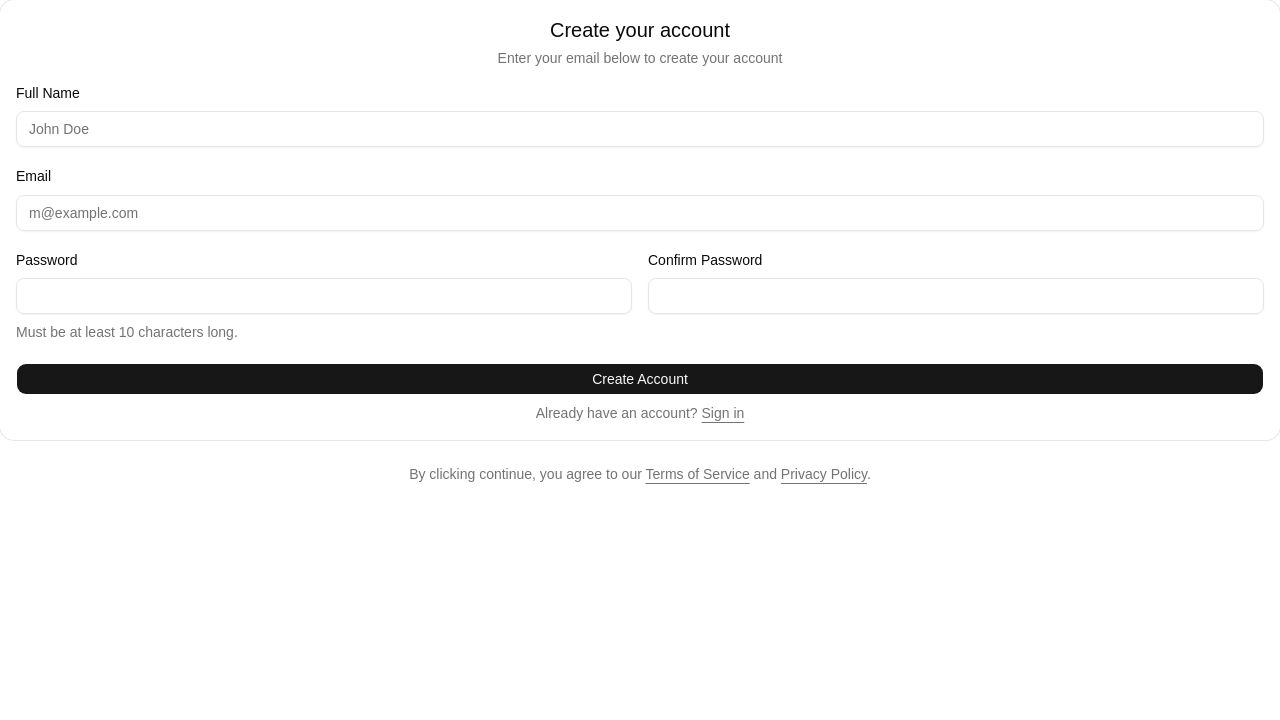
it: SignupForm › shows an error when password is shorter than 10 characters
The image size is (1280, 720).
Type "Jane Doe" into the field labelled "Full Name" at (640, 129), box [16,111,1264,147]
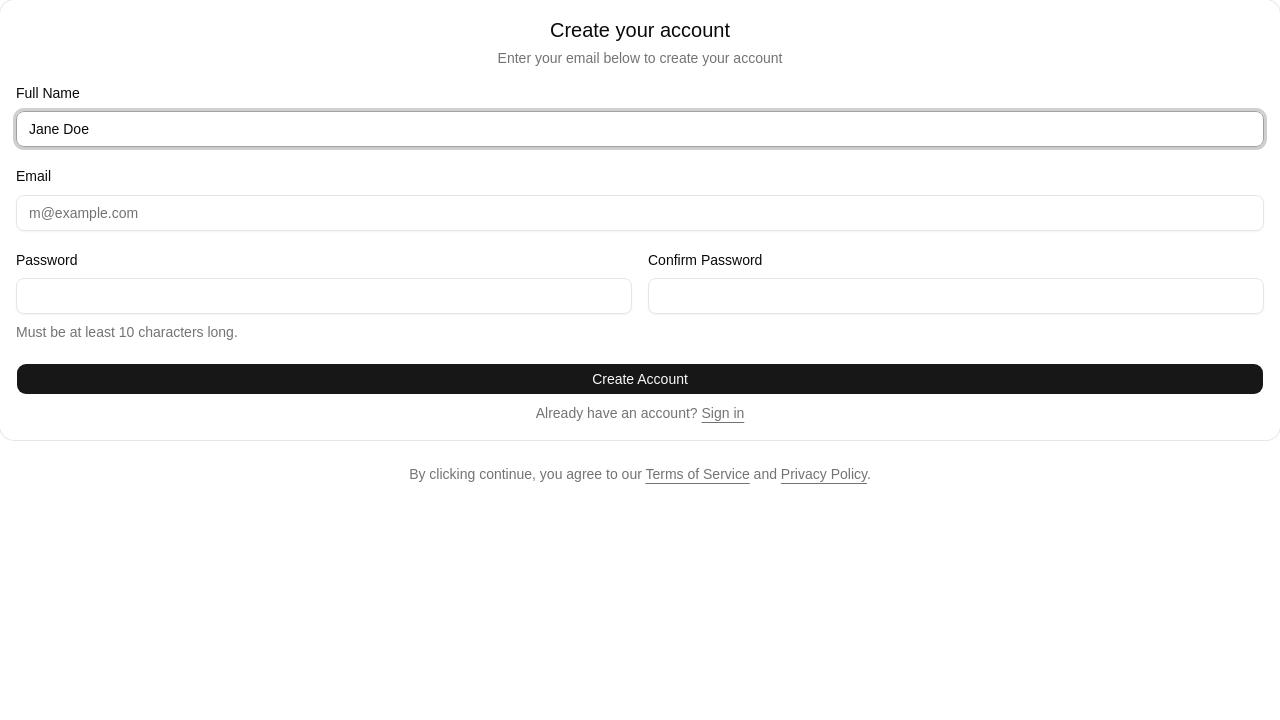
Type "jane@example.com" into the field labelled "Email" at (640, 212), box [16,194,1264,230]
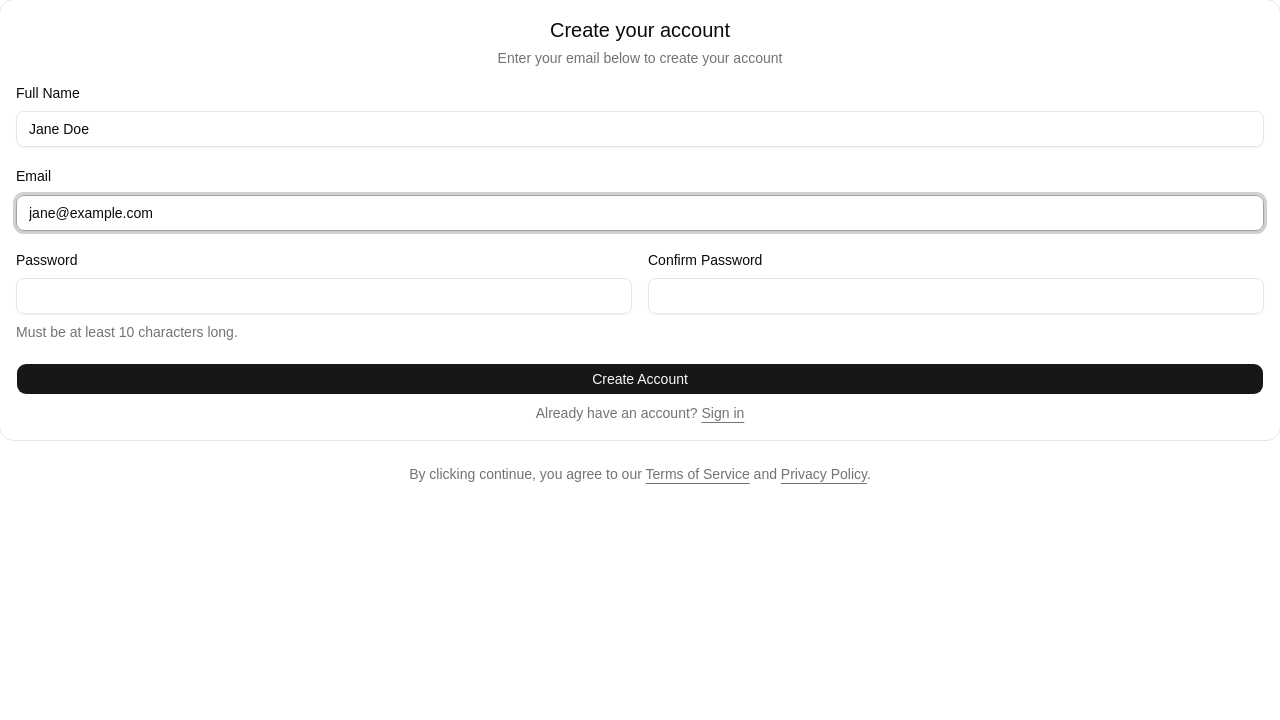
Type "short1" into the password field labelled "Password" at (324, 296), box [16,278,632,314]
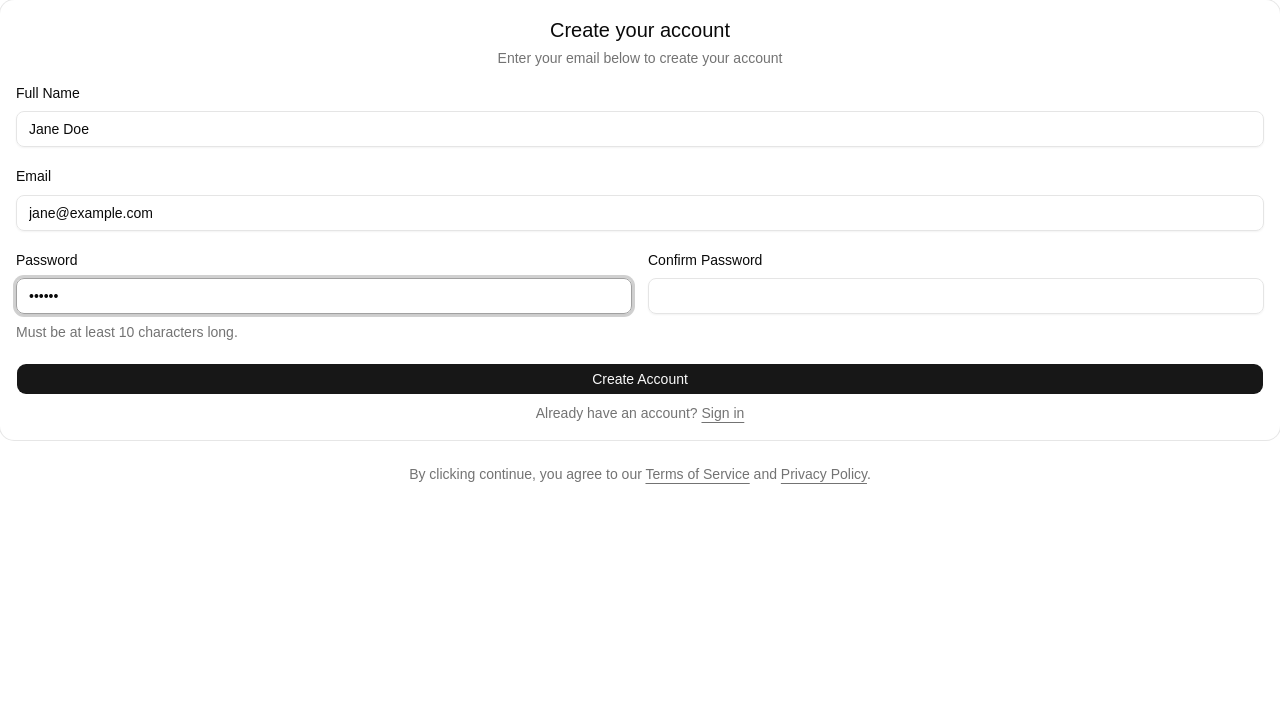
Type "short1" into the password field labelled "Confirm Password" at (956, 296), box [648,278,1264,314]
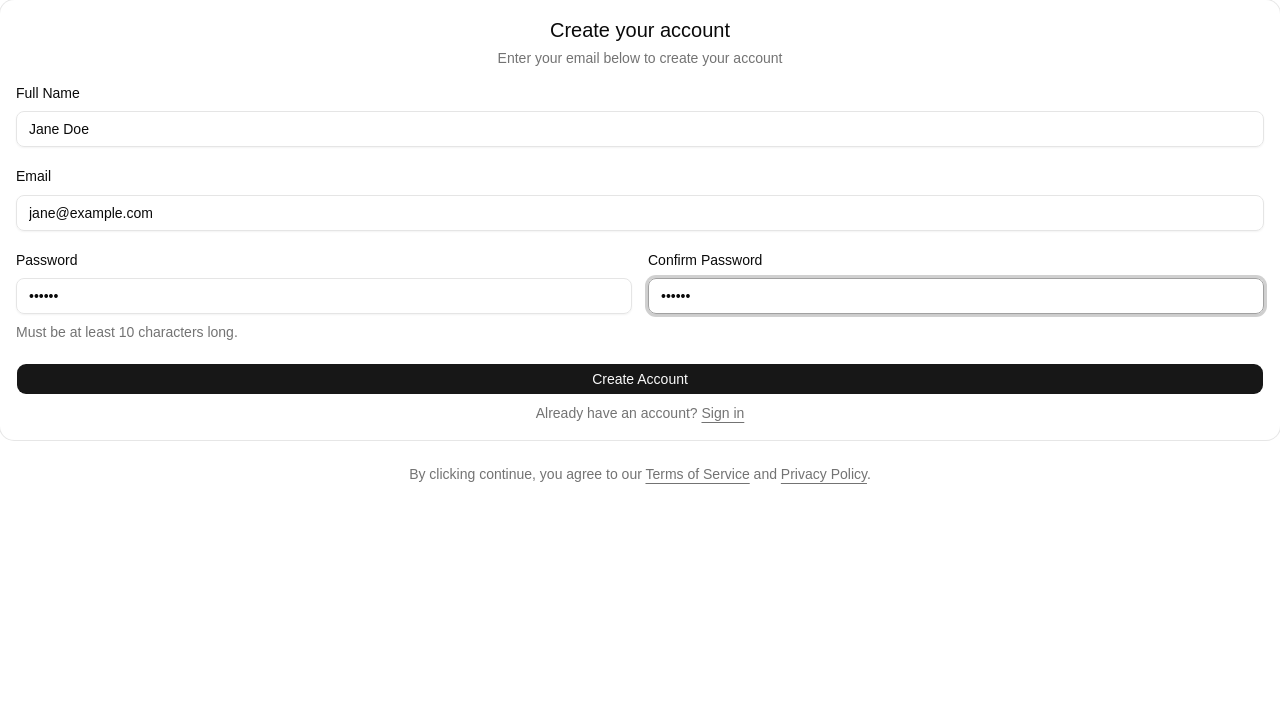
Click the button "Create Account" at (640, 379), box [16,363,1264,395]
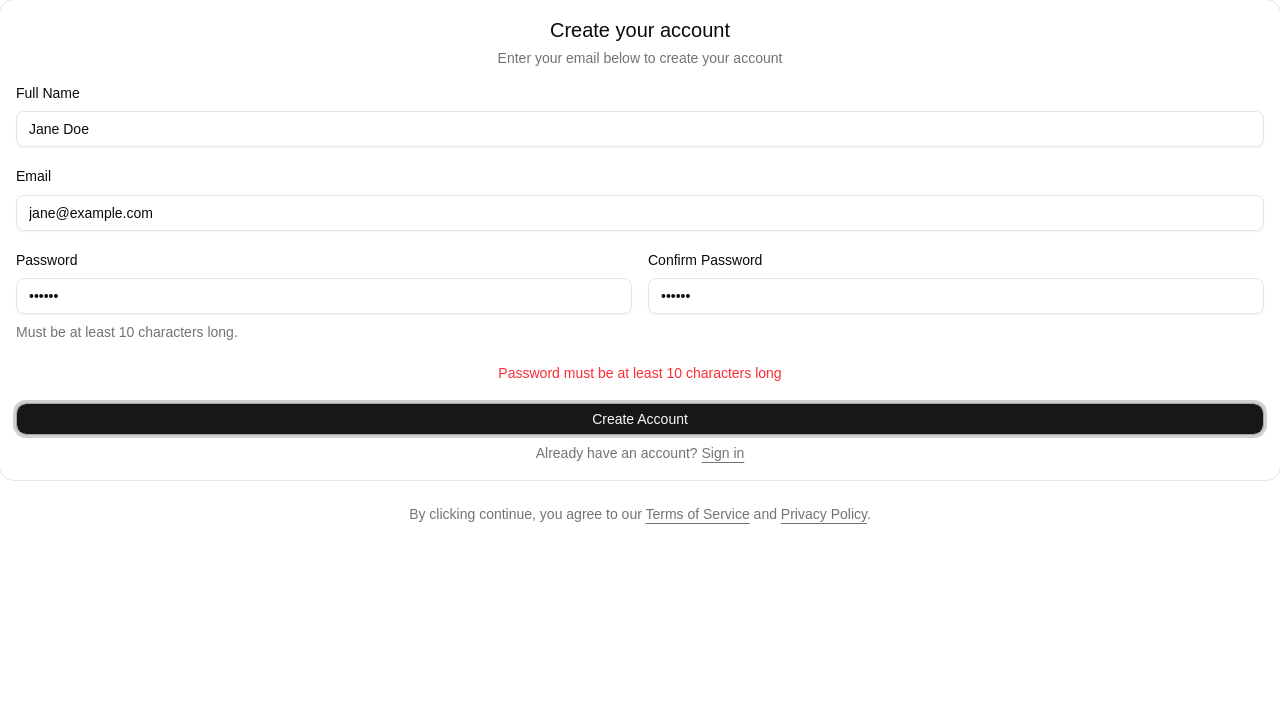
Result: the text "Password must be at least 10 characters long" is shown at [498,365,782,381]
